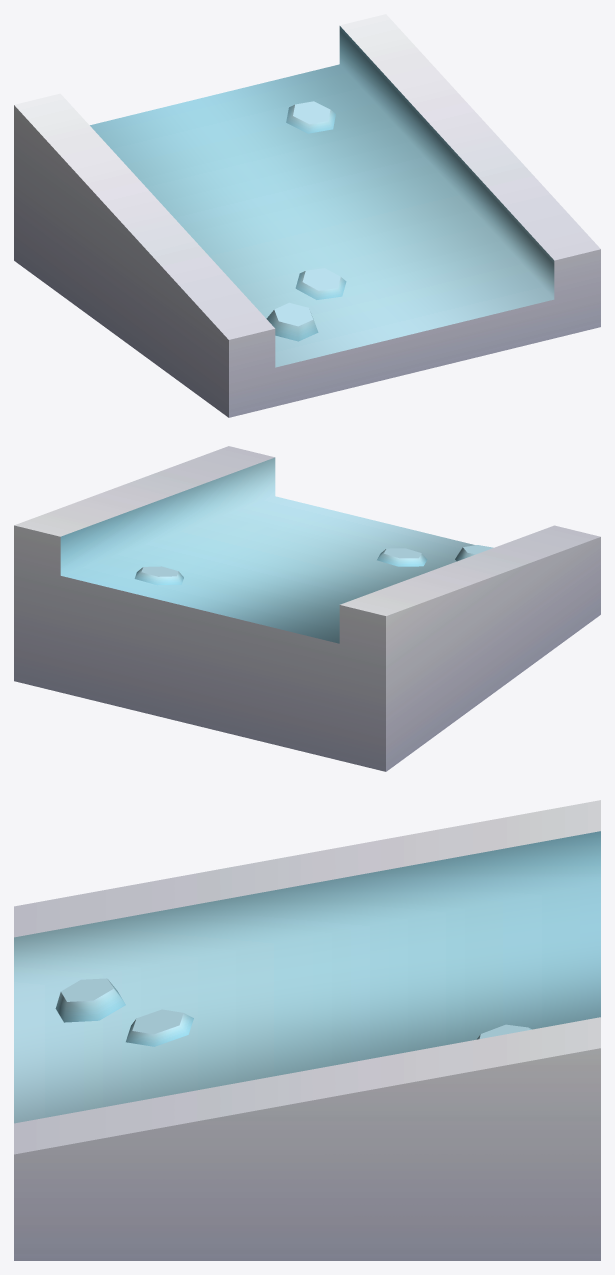
Rendered from kenney-tower-defense-snow-tile-straight-slope.glb.
3 renders of one model, top to bottom at view 1: azimuth 30°, elevation 25°; view 2: azimuth 150°, elevation 25°; view 3: azimuth 270°, elevation 25°, orthographic. The views are drawn at different scales.
Parts seen in each view (by area): view 1: snow-tile-straight-slope; view 2: snow-tile-straight-slope; view 3: snow-tile-straight-slope.
Boxes of the visible parts, <box> form: snow-tile-straight-slope: <box>14,14,600,417</box>; snow-tile-straight-slope: <box>14,446,600,771</box>; snow-tile-straight-slope: <box>14,800,600,1260</box>.
Size of the model in its own units: 1 by 0.3999 by 1.
Materials: 1 (1 with a texture image).
